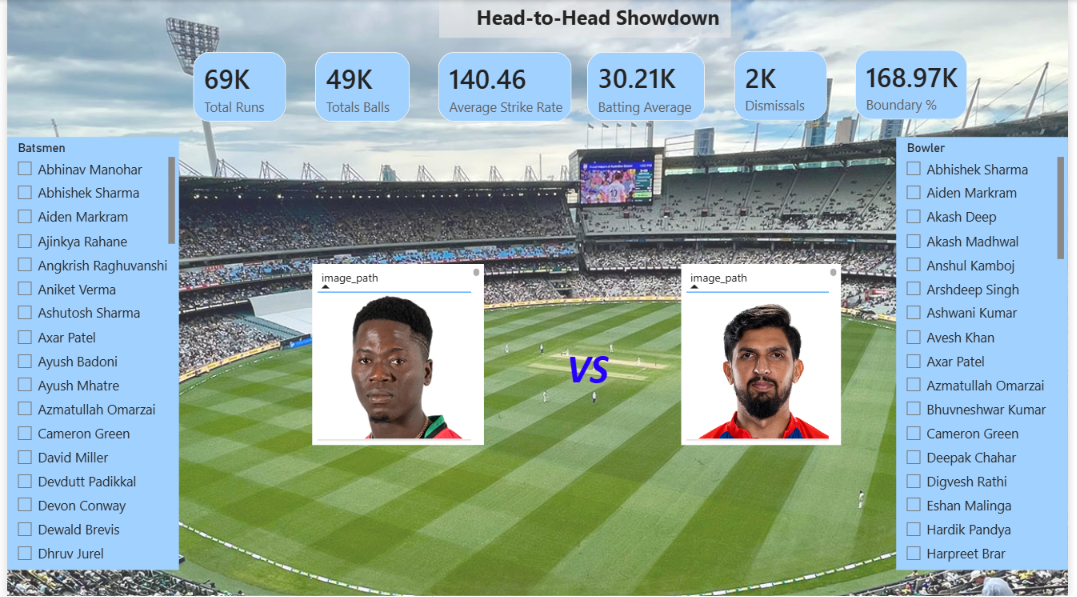

The page's visual inventory and layout, read from the dashboard file:
{"tool":"powerbi","page":{"name":"Head-to-Head Showdown","canvas":[1280,720],"ordinal":3},"visuals":[{"type":"textbox","box":[521.2,0,352.3,45.8],"z":0},{"type":"tableEx","fields":{"Values":["PLAYERS_BATTER_IMAGES.image_path"]},"box":[368,318.5,207.5,218.4],"z":1000},{"type":"tableEx","fields":{"Values":["PLAYERS_BOWLER_IMAGES.image_path"]},"box":[813.1,318.5,193,218.4],"z":2000},{"type":"slicer","fields":{"Values":["PLAYERS_BOWLER_IMAGES.player_name"]},"box":[1072.5,165.3,207.5,522.4],"z":3000},{"type":"slicer","fields":{"Values":["PLAYERS_BATTER_IMAGES.player_name"]},"box":[0,165.3,207.5,522.4],"z":4000},{"type":"cardVisual","fields":{"Data":["Sum(BATSMEN_VS_BOWLER.runs)"]},"box":[207.5,45.8,146.8,118.9],"z":5000},{"type":"cardVisual","fields":{"Data":["Sum(BATSMEN_VS_BOWLER.balls)"]},"box":[354.7,45.8,148,118.9],"z":6000},{"type":"cardVisual","fields":{"Data":["Avg(BATSMEN_VS_BOWLER.strike_rate)"]},"box":[503.1,45.8,195.4,118.9],"z":7000},{"type":"cardVisual","fields":{"Data":["Sum(BATSMEN_VS_BOWLER.dismissals)"]},"box":[860.2,44.6,146.8,118.9],"z":8000},{"type":"cardVisual","fields":{"Data":["Sum(BATSMEN_VS_BOWLER.boundary_percentage)"]},"box":[1006.2,43.4,169.9,118.9],"z":9000},{"type":"textbox","box":[629.8,411.4,137.5,76],"z":10000},{"type":"cardVisual","fields":{"Data":["Sum(BATSMEN_VS_BOWLER.batting_average)"]},"box":[682.8,45.8,176.8,117.8],"z":11000}]}

Visuals, with their boxes in screenshot pixels (x1, y1, x2, y2), scaled from the page's 1280x720 canvas onto the 1077x597 screenshot:
textbox: {"x1": 439, "y1": 0, "x2": 735, "y2": 38}
tableEx - PLAYERS_BATTER_IMAGES.image_path: {"x1": 310, "y1": 264, "x2": 484, "y2": 445}
tableEx - PLAYERS_BOWLER_IMAGES.image_path: {"x1": 684, "y1": 264, "x2": 847, "y2": 445}
slicer - PLAYERS_BOWLER_IMAGES.player_name: {"x1": 902, "y1": 137, "x2": 1076, "y2": 570}
slicer - PLAYERS_BATTER_IMAGES.player_name: {"x1": 0, "y1": 137, "x2": 175, "y2": 570}
cardVisual - Sum(BATSMEN_VS_BOWLER.runs): {"x1": 175, "y1": 38, "x2": 298, "y2": 137}
cardVisual - Sum(BATSMEN_VS_BOWLER.balls): {"x1": 298, "y1": 38, "x2": 423, "y2": 137}
cardVisual - Avg(BATSMEN_VS_BOWLER.strike_rate): {"x1": 423, "y1": 38, "x2": 588, "y2": 137}
cardVisual - Sum(BATSMEN_VS_BOWLER.dismissals): {"x1": 724, "y1": 37, "x2": 847, "y2": 136}
cardVisual - Sum(BATSMEN_VS_BOWLER.boundary_percentage): {"x1": 847, "y1": 36, "x2": 990, "y2": 135}
textbox: {"x1": 530, "y1": 341, "x2": 646, "y2": 404}
cardVisual - Sum(BATSMEN_VS_BOWLER.batting_average): {"x1": 575, "y1": 38, "x2": 723, "y2": 136}
